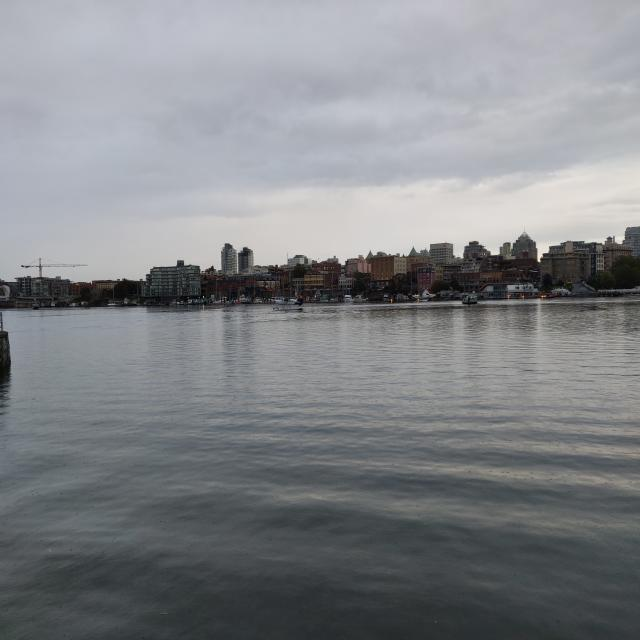aircraft: (272, 294, 304, 310), (407, 290, 442, 304)
boat: (462, 292, 477, 304), (353, 294, 367, 301), (343, 294, 354, 302)
